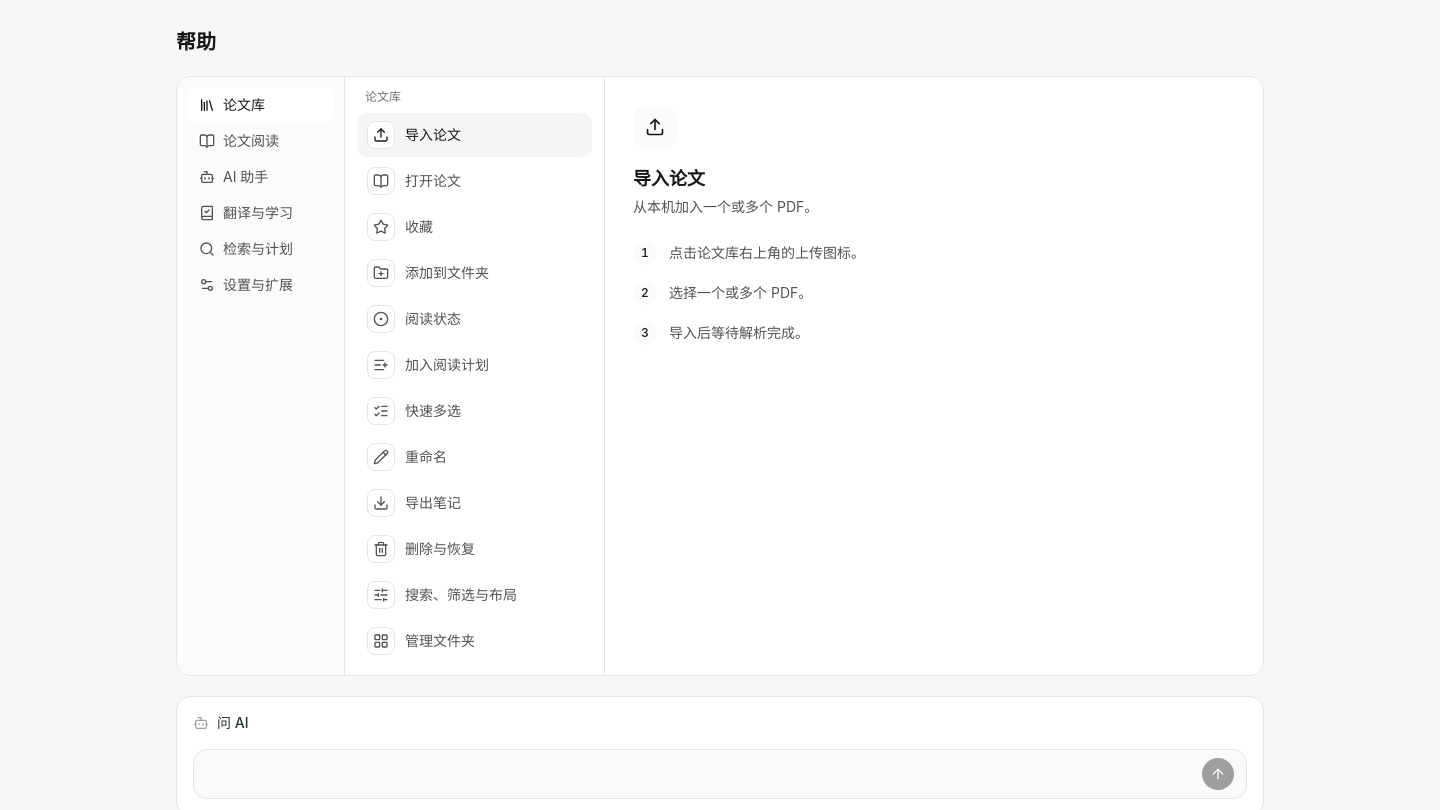
Scenario: HelpPage › shows the exact operation steps for a selected feature
Click the button "添加到文件夹" at (474, 273), box [357,251,592,295]
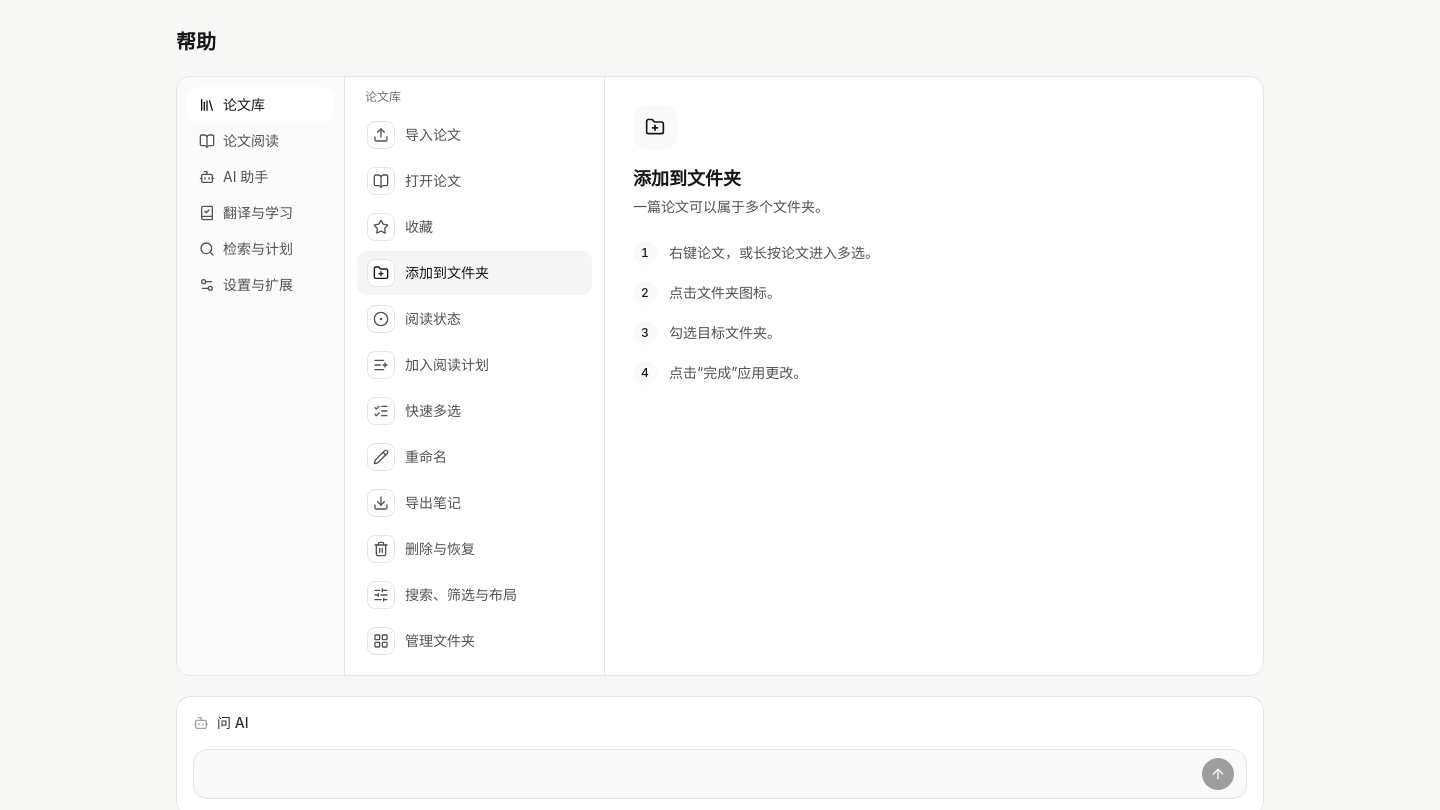
Expected: the heading "添加到文件夹" is shown, [633,168,741,189]
Expected: the text "右键论文，或长按论文进入多选。" is shown, [669,241,879,265]
Expected: the text "点击文件夹图标。" is shown, [669,281,781,305]
